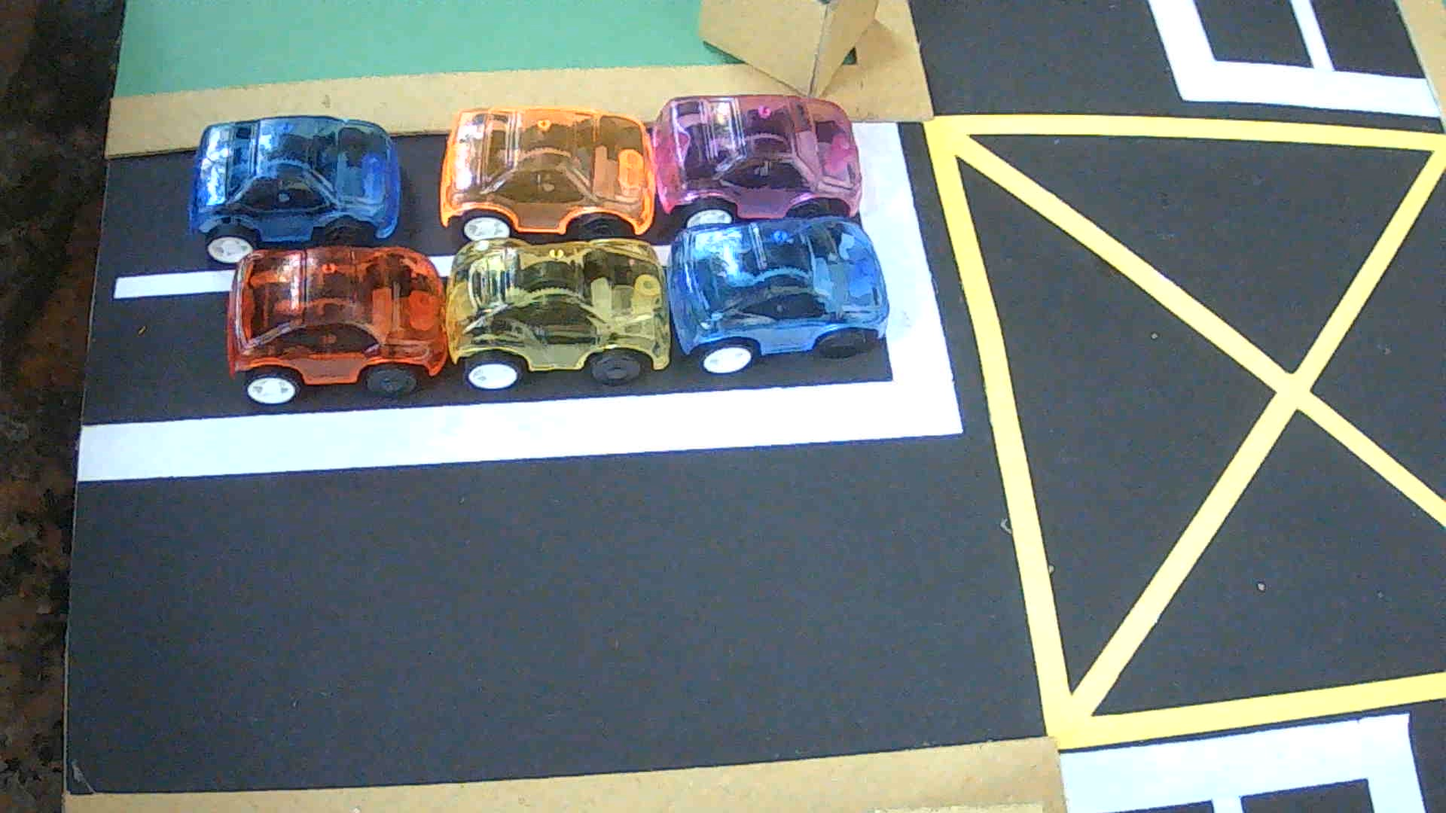Mobil biru: (667, 215, 889, 374), (188, 115, 401, 263)
Mobil kuning: (444, 238, 672, 389)
Mobil merah: (225, 245, 446, 405)
Mobil orange: (438, 106, 656, 241)
Mobil ungu: (651, 95, 862, 226)
